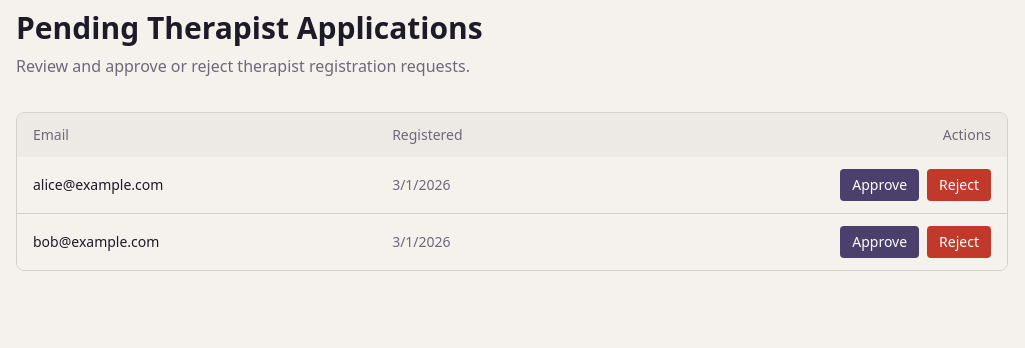
Test: Admin therapists page › shows action error when approve fails
Expected: the text "alice@example.com" is shown, [17,157,376,213]
Click the button "Approve" in the row of "alice@example.com": (880,185) [840,169,919,201]
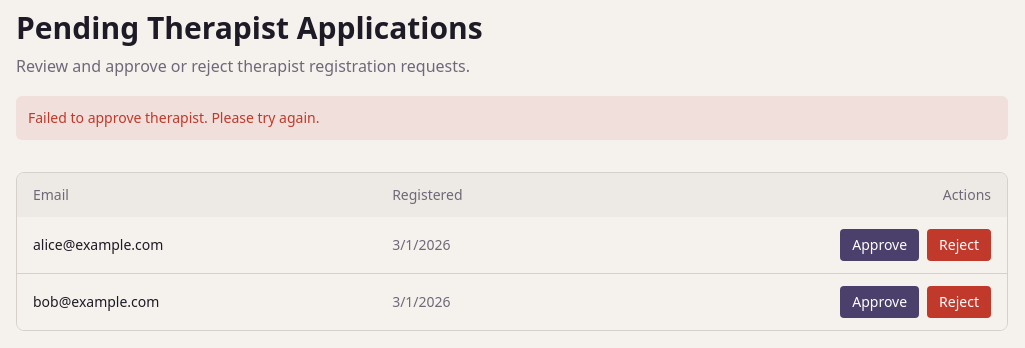
Expected: the text "Failed to approve therapist. Please try again." is shown, [16,96,1008,140]
